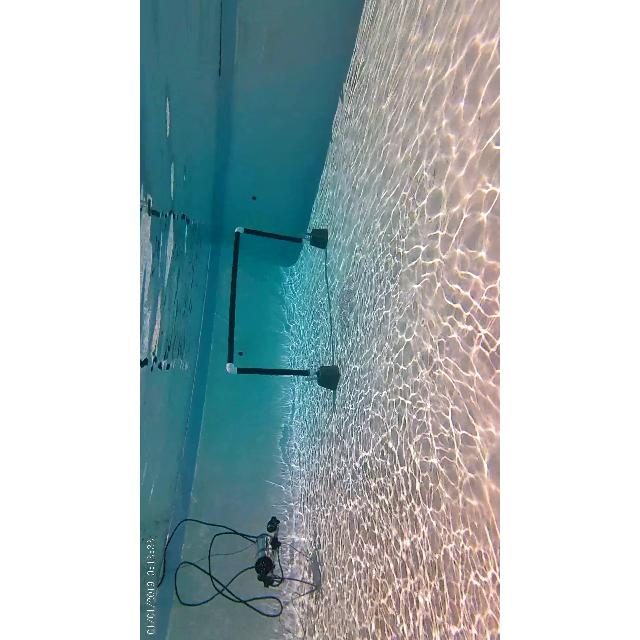prequal gate: (229, 226, 315, 380)
prequal gate leg l: (221, 359, 313, 383)
prequal gate leg r: (234, 225, 310, 245)
